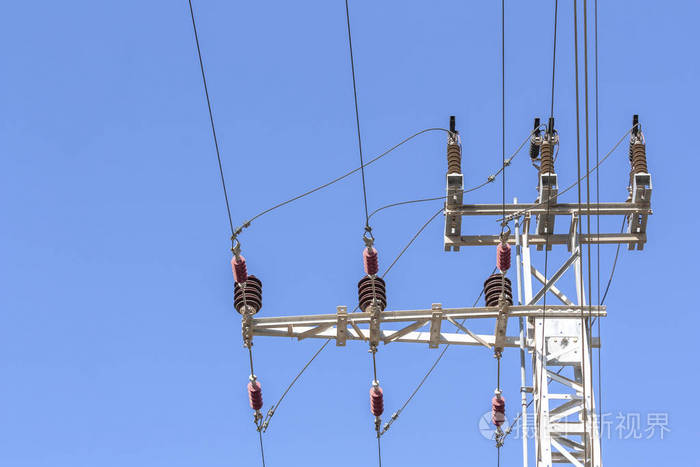insulator: (363, 249, 381, 276), (368, 389, 386, 416), (495, 244, 513, 271), (231, 255, 247, 285), (247, 382, 264, 409), (492, 398, 506, 428)
